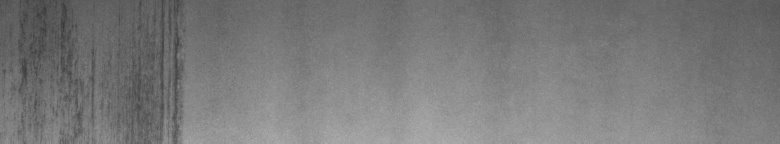ka: (4, 5, 95, 120)
